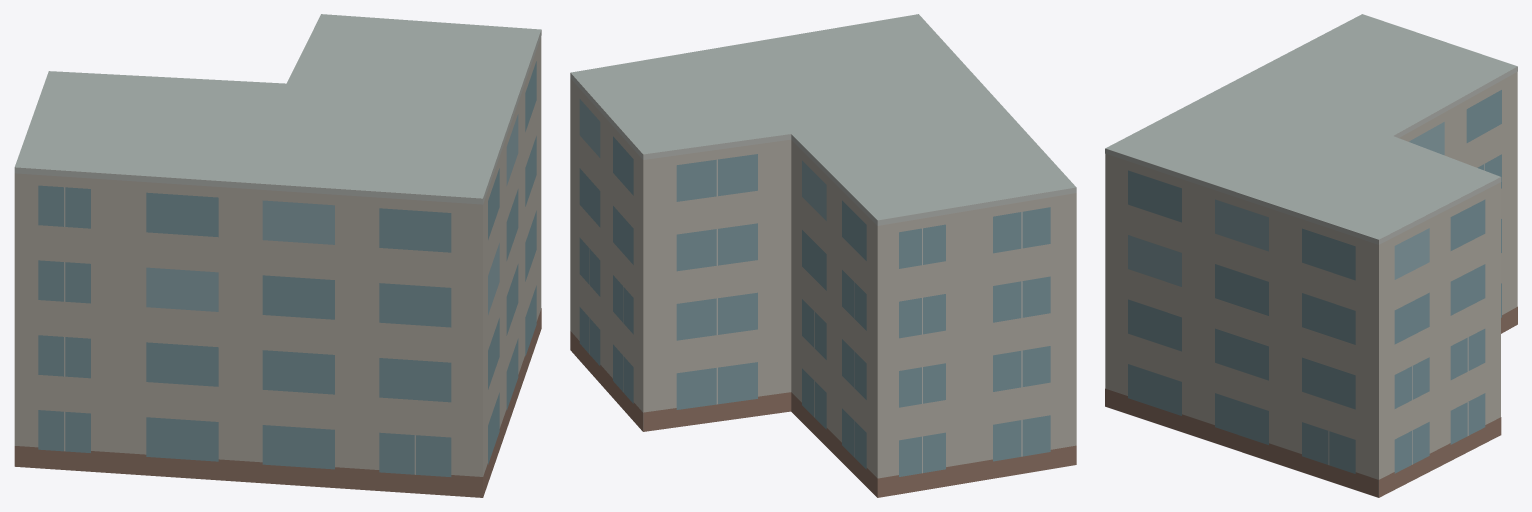
File: survey-upis-32626550.glb
The picture shows the model from 3 angles, left to right: view 1: azimuth 30°, elevation 25°; view 2: azimuth 150°, elevation 25°; view 3: azimuth 270°, elevation 25°; orthographic projection. The views are drawn at different scales.
Visible parts, largest first — view 1: survey-upis-32626550.tmp; view 2: survey-upis-32626550.tmp; view 3: survey-upis-32626550.tmp.
Boxes of the visible parts, bbox=[...] form: survey-upis-32626550.tmp: bbox=[14, 14, 541, 497]; survey-upis-32626550.tmp: bbox=[570, 14, 1076, 497]; survey-upis-32626550.tmp: bbox=[1105, 14, 1517, 497].
Size of the model in its own units: 22.89 by 12.2 by 17.68.
